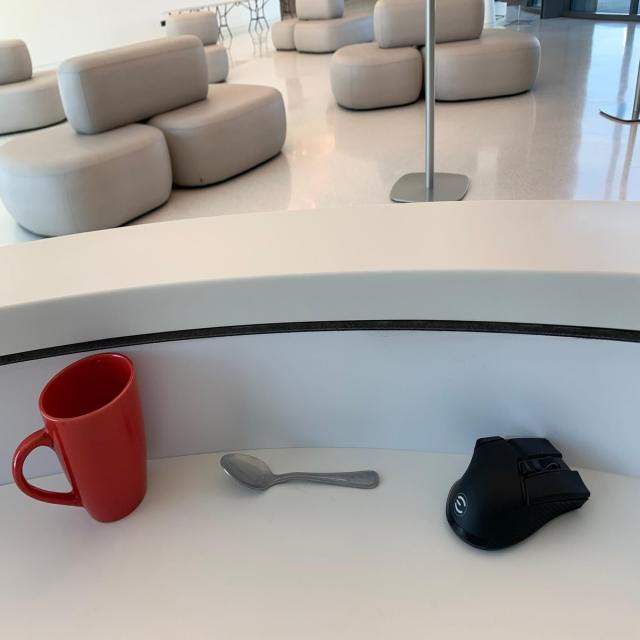Cup: (7, 345, 164, 539)
Mouse: (440, 414, 598, 550)
Spoon: (215, 444, 399, 530)
